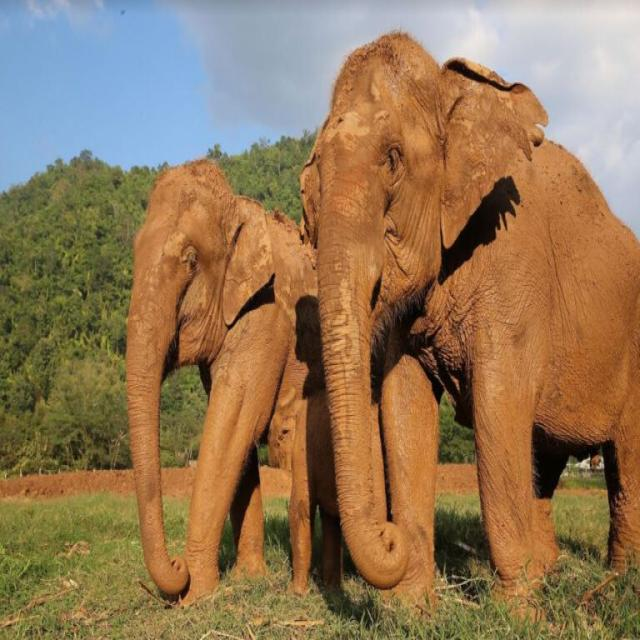Elephant: (311, 20, 640, 612), (107, 132, 309, 618)
